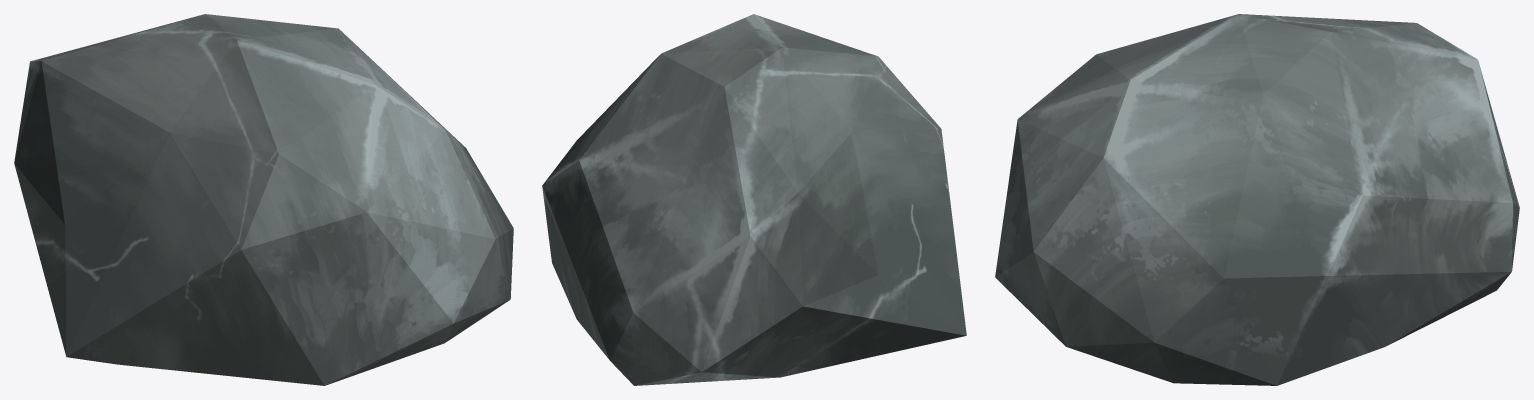
The model's file is glaz_2.obj.
3 renders of one model, left to right at view 1: azimuth 30°, elevation 25°; view 2: azimuth 150°, elevation 25°; view 3: azimuth 270°, elevation 25°, orthographic. The views are drawn at different scales.
Parts seen in each view (by area): view 1: rock.006; view 2: rock.006; view 3: rock.006.
Part boxes in pixels (<box>): rock.006: <box>14,14,513,385</box>; rock.006: <box>542,14,966,385</box>; rock.006: <box>995,14,1519,385</box>.
Bounding box in the file's own units: 12.06 × 7.33 × 13.2.
Materials: 1 (1 with a texture image).
